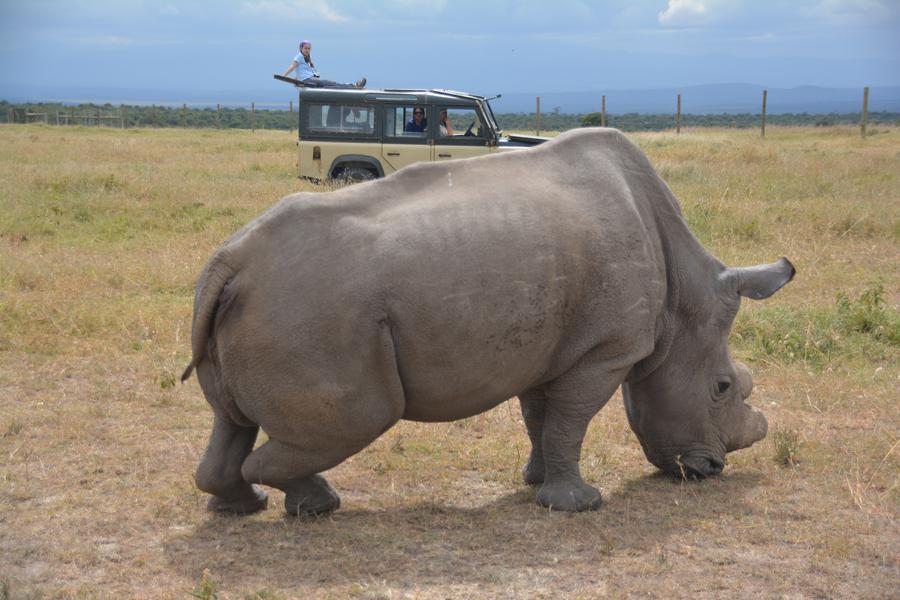rhino: (170, 117, 786, 518)
